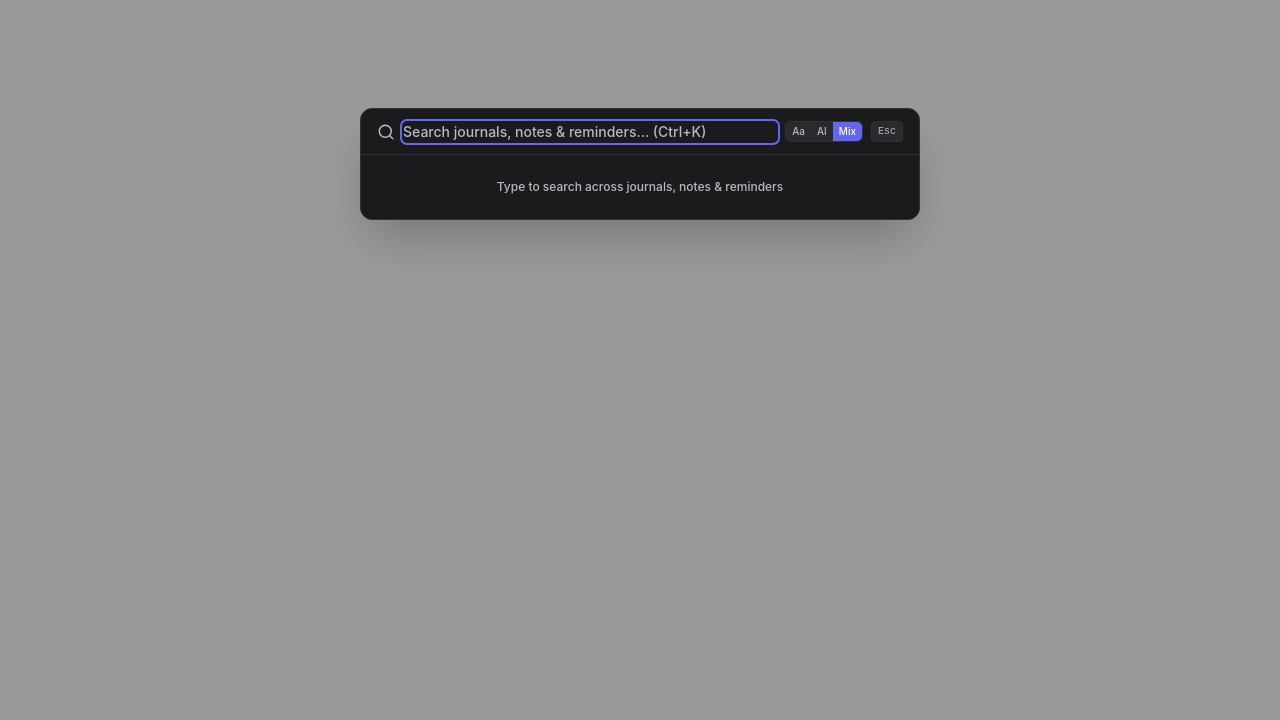
Test case: SearchPalette mount › runs a debounced query end-to-end and renders the results
Type "beach" into the field with placeholder "Search journals, notes & reminders… (Ctrl+K)" at (590, 132), box [403, 122, 777, 142]
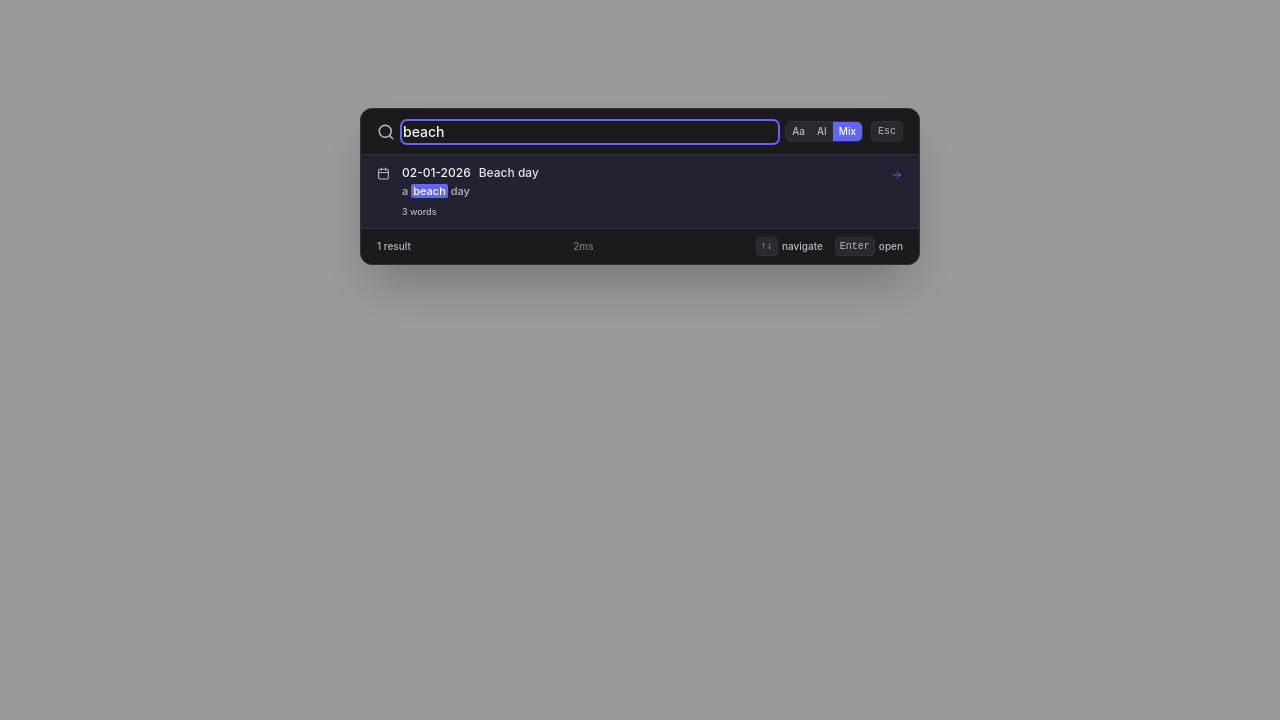
Check: the text "Beach day" is shown, box [479, 165, 539, 181]
